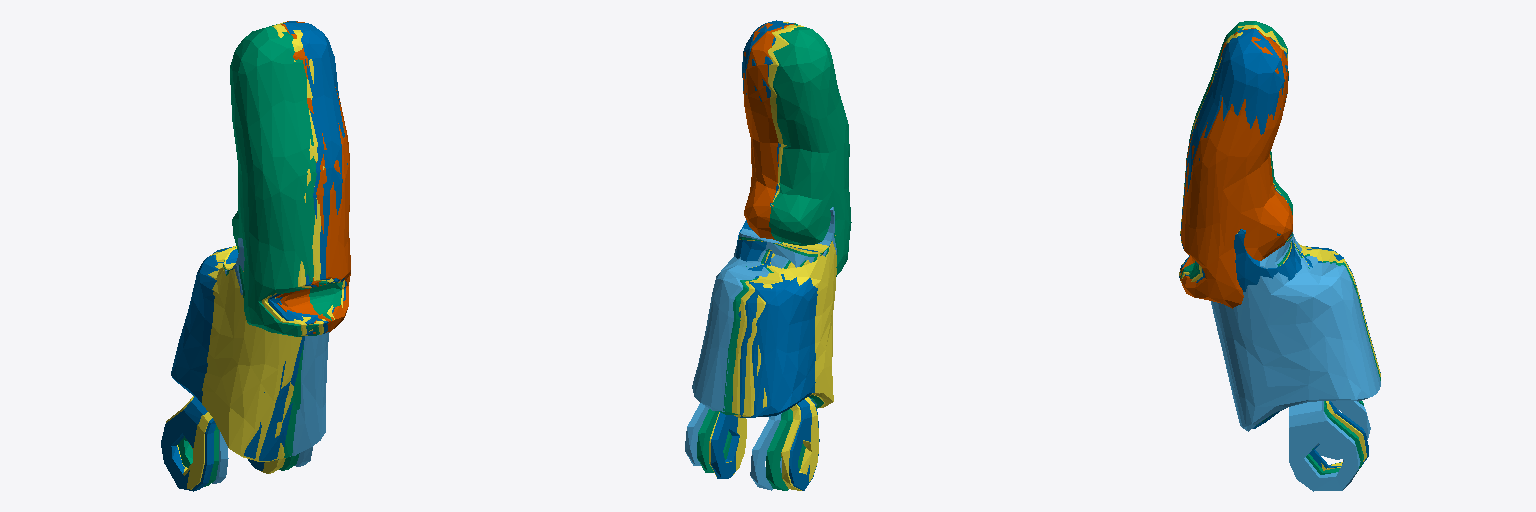
URDF robot description (ability_hand):
<?xml version="1.0" encoding="UTF-8"?>
<!--
	NOTES:
	Units:
		Distance: m
		Angles: rad (only option)
		Mass: kg
		Inertia: kg*m^2
		
	Notes on intertia:
		-The inertias are calculated for uniform density using meshes with weights.
	
	Notes on finger q2:
		-The hand is a 4 bar linkage mechanism forming an 'X'. 4 bar linkages are not supported in the 
		urdf format. The motion of the second finger joint is fully defined by the motion of the first 
		finger joint. The calculation to find the index finger second joint angle given the first is provided
		in a matlab script elsewhere in this repository.
-->
<robot name="ability_hand">
   <link name="base">
      <visual name="wrist_mesh">
         <origin rpy="0 0 0" xyz="0 0 0" />
         <geometry>
            <mesh filename="models/wristmesh.STL" />
         </geometry>
      </visual>
      <inertial>
         <mass value="0.37511000" />
         <inertia ixx="3.76723021e-04" ixy="-2.33895460e-06" ixz="6.04325119e-06" iyy="4.67706269e-04" iyz="5.04572726e-05" izz="1.77650714e-04" />
         <origin xyz="6.54520000e-04 -5.98838000e-03 5.07726500e-02" rpy="0 0 0" />
      </inertial>
            <visual name="palm_mesh">
         <origin rpy="3.14148426 -0.08848813 -3.14036612" xyz="-24.0476665e-3 3.78124745e-3 32.32964923e-3" />
         <geometry>
            <mesh filename="models/FB_palm_ref_MIR.STL" />
         </geometry>
      </visual>
      <collision name="palm_mesh_coll">
         <origin rpy="3.14148426 -0.08848813 -3.14036612" xyz="-24.0476665e-3 3.78124745e-3 32.32964923e-3" />
         <geometry>
            <mesh filename="models/palm_hull_mir.STL" />
         </geometry>
      </collision>
   </link>
   <link name="index_L1">
      <inertial>
         <mass value="0.00636000" />
         <inertia ixx="2.85169621e-07" ixy="1.21454801e-08" ixz="2.02098452e-09" iyy="9.77683041e-07" iyz="-2.87547802e-10" izz="1.05411544e-06" />
         <origin xyz="1.77549969e-02 -2.13867669e-04 -2.02851433e-05" rpy="0 0 0" />
      </inertial>
      <visual name="index_mesh_1">
         <origin rpy="0 0 0" xyz="0 0 0" />
         <geometry>
            <mesh filename="models/idx-F1.STL" />
         </geometry>
      </visual>
      <collision name="index_mesh_coll_1">
         <origin rpy="0 0 0.0844739" xyz="0.0384727 0.0032577 0" />
         <geometry>
            <mesh filename="models/idx-F1-hull.STL" />
         </geometry>
      </collision>
   </link>
   <link name="index_L2">
      <inertial>
         <mass value="0.00600000" />
         <inertia ixx="4.06340451e-07" ixy="3.99862338e-07" ixz="-1.91966414e-09" iyy="9.13745257e-07" iyz="8.96846813e-10" izz="1.13382499e-06" />
         <origin xyz="1.52723400e-02 -1.00039197e-02 -3.11063902e-05" rpy="0 0 0" />
      </inertial>
      <visual name="index_mesh_2">
         <origin rpy="0 0 0" xyz="0 0 0" />
         <geometry>
            <mesh filename="models/idx-F2.STL" />
         </geometry>
      </visual>
      <collision name="index_mesh_coll_2">
         <origin rpy="0 0 0" xyz="0.0091241 0 0" />
         <geometry>
            <mesh filename="models/idx-F2-hull.STL" />
         </geometry>
      </collision>
   </link>
   <joint name="index_q1" type="revolute">
      <parent link="base" />
      <child link="index_L1" />
      <origin xyz="-2.8e-2 -9e-3 9.6e-2" rpy=" 1.672 -1.317 -1.790 " />
      <axis xyz="0 0 1" />
      <limit lower="0" upper="2.0943951" effort="6.0" velocity="8.0677777442" />
      <dynamics damping="0.001" friction="0.001" />
   </joint>
   <joint name="index_q2" type="revolute">
      <parent link="index_L1" />
      <child link="index_L2" />
      <origin xyz="38.472723e-3 3.257695e-3 0.000000e-3" rpy="0 0 0.084474" />
      <axis xyz="0 0 1" />
      <limit lower="0.0" upper="2.6586" effort="6.0" velocity="8.0677777442" />
      <!-- angles in rad, efforts in N-m, velocity in rad/s -->
      <dynamics damping="0.001" friction="0.001" />
      <!-- Friction coefficient is not from quantitative measurement -->
      <mimic joint="index_q1" multiplier="1.05851325" offset="0.72349796" />
   </joint>
   <link name="index_anchor" />
   <joint name="idx_anchor" type="fixed">
      <parent link="index_L2" />
      <child link="index_anchor" />
      <origin rpy="0 0 0" xyz="31.5541e-3  -10.44e-3 0.14e-3" />
   </joint>
   <link name="fsr0" />
   <joint name="fsr0" type="fixed">
      <parent link="index_L2" />
      <child link="fsr0" />
      <origin rpy="3.14 0 -0.1848" xyz="0.02556 -0.01391 -0.00435" />
   </joint>
   <link name="fsr1" />
   <joint name="fsr1" type="fixed">
      <parent link="index_L2" />
      <child link="fsr1" />
      <origin rpy="-1.5708 0.0 -0.2316" xyz="0.02517 -0.01110 -0.00000" />
   </joint>
   <link name="fsr2" />
   <joint name="fsr2" type="fixed">
      <parent link="index_L2" />
      <child link="fsr2" />
      <origin rpy="0.0 0.0 -0.1848036056311012" xyz="0.02556 -0.01391 0.00435" />
   </joint>
   <link name="fsr3" />
   <joint name="fsr3" type="fixed">
      <parent link="index_L2" />
      <child link="fsr3" />
      <origin rpy="3.14159 0.00000 -0.57092" xyz="0.01310 -0.00943 -0.00435" />
   </joint>
   <link name="fsr4" />
   <joint name="fsr4" type="fixed">
      <parent link="index_L2" />
      <child link="fsr4" />
      <origin rpy="0.00000 0.00000 -0.57199" xyz="0.01310 -0.00943 0.00435" />
   </joint>
   <link name="fsr5" />
   <joint name="fsr5" type="fixed">
      <parent link="index_L2" />
      <child link="fsr5" />
      <origin rpy="-2.66907 -1.57080 0.00000" xyz="0.03142 -0.01438 0.00000" />
   </joint>
   <link name="middle_L1">
      <inertial>
         <mass value="0.00636000" />
         <inertia ixx="2.85169621e-07" ixy="1.21454801e-08" ixz="2.02098452e-09" iyy="9.77683041e-07" iyz="-2.87547802e-10" izz="1.05411544e-06" />
         <origin xyz="1.77549969e-02 -2.13867669e-04 -2.02851433e-05" rpy="0 0 0" />
      </inertial>
      <visual name="middle_mesh_1">
         <origin rpy="0 0 0" xyz="0 0 0" />
         <geometry>
            <mesh filename="models/idx-F1.STL" />
         </geometry>
      </visual>
      <collision name="middle_mesh_coll_1">
         <origin rpy="0 0 0.0844739" xyz="0.0384727 0.0032577 0" />
         <geometry>
            <mesh filename="models/idx-F1-hull.STL" />
         </geometry>
      </collision>
   </link>
   <link name="middle_L2">
      <inertial>
         <mass value="0.00600000" />
         <inertia ixx="4.06340451e-07" ixy="3.99862338e-07" ixz="-1.91966414e-09" iyy="9.13745257e-07" iyz="8.96846813e-10" izz="1.13382499e-06" />
         <origin xyz="1.52723400e-02 -1.00039197e-02 -3.11063902e-05" rpy="0 0 0" />
      </inertial>
      <visual name="middle_mesh_2">
         <origin rpy="0 0 0" xyz="0 0 0" />
         <geometry>
            <mesh filename="models/idx-F2.STL" />
         </geometry>
      </visual>
      <collision name="middle_mesh_coll_2">
         <origin rpy="0 0 0" xyz="0.0091241 0 0" />
         <geometry>
            <mesh filename="models/idx-F2-hull.STL" />
         </geometry>
      </collision>
   </link>
   <joint name="middle_q1" type="revolute">
      <parent link="base" />
      <child link="middle_L1" />
      <origin xyz=" -0.008 -0.012 0.099 " rpy=" 1.513 -1.322 -1.558 " />
      <limit lower="0" upper="2.0943951" effort="6.0" velocity="8.0677777442" />
      <dynamics damping="0.001" friction="0.001" />
      <axis xyz="0 0 1" />
   </joint>
   <joint name="middle_q2" type="revolute">
      <parent link="middle_L1" />
      <child link="middle_L2" />
      <origin xyz="38.472723e-3 3.257695e-3 0.000000" rpy="0 0 0.084474" />
      <axis xyz="0 0 1" />
      <limit lower="0.0" upper="2.6586" effort="6.0" velocity="8.0677777442" />
      <!-- angles in rad, efforts in N-m, velocity in rad/s -->
      <dynamics damping="0.001" friction="0.001" />
      <!-- Friction coefficient is not from quantitative measurement -->
      <mimic joint="middle_q1" multiplier="1.05851325" offset="0.72349796" />
   </joint>
   <link name="middle_anchor" />
   <joint name="mid_anchor" type="fixed">
      <parent link="middle_L2" />
      <child link="middle_anchor" />
      <origin rpy="0 0 0" xyz="31.5541e-3  -10.44e-3 0.14e-3" />
   </joint>
   <link name="fsr6" />
   <joint name="fsr6" type="fixed">
      <parent link="middle_L2" />
      <child link="fsr6" />
      <origin rpy="3.14 0 -0.1848" xyz="0.02556 -0.01391 -0.00435" />
   </joint>
   <link name="fsr7" />
   <joint name="fsr7" type="fixed">
      <parent link="middle_L2" />
      <child link="fsr7" />
      <origin rpy="-1.5708 0.0 -0.2316" xyz="0.02517 -0.01110 -0.00000" />
   </joint>
   <link name="fsr8" />
   <joint name="fsr8" type="fixed">
      <parent link="middle_L2" />
      <child link="fsr8" />
      <origin rpy="0.0 0.0 -0.1848036056311012" xyz="0.02556 -0.01391 0.00435" />
   </joint>
   <link name="fsr9" />
   <joint name="fsr9" type="fixed">
      <parent link="middle_L2" />
      <child link="fsr9" />
      <origin rpy="3.14159 0.00000 -0.57092" xyz="0.01310 -0.00943 -0.00435" />
   </joint>
   <link name="fsr10" />
   <joint name="fsr10" type="fixed">
      <parent link="middle_L2" />
      <child link="fsr10" />
      <origin rpy="0.00000 0.00000 -0.57199" xyz="0.01310 -0.00943 0.00435" />
   </joint>
   <link name="fsr11" />
   <joint name="fsr11" type="fixed">
      <parent link="middle_L2" />
      <child link="fsr11" />
      <origin rpy="-2.66907 -1.57080 0.00000" xyz="0.03142 -0.01438 0.00000" />
   </joint>
   <link name="ring_L1">
      <inertial>
         <mass value="0.00636000" />
         <inertia ixx="2.85169621e-07" ixy="1.21454801e-08" ixz="2.02098452e-09" iyy="9.77683041e-07" iyz="-2.87547802e-10" izz="1.05411544e-06" />
         <origin xyz="1.77549969e-02 -2.13867669e-04 -2.02851433e-05" rpy="0 0 0" />
      </inertial>
      <visual name="ring_mesh_1">
         <origin rpy="0 0 0" xyz="0 0 0" />
         <geometry>
            <mesh filename="models/idx-F1.STL" />
         </geometry>
      </visual>
      <collision name="ring_mesh_coll_1">
         <origin rpy="0 0 0.0844739" xyz="0.0384727 0.0032577 0" />
         <geometry>
            <mesh filename="models/idx-F1-hull.STL" />
         </geometry>
      </collision>
   </link>
   <link name="ring_L2">
      <inertial>
         <mass value="0.00600000" />
         <inertia ixx="4.06340451e-07" ixy="3.99862338e-07" ixz="-1.91966414e-09" iyy="9.13745257e-07" iyz="8.96846813e-10" izz="1.13382499e-06" />
         <origin xyz="1.52723400e-02 -1.00039197e-02 -3.11063902e-05" rpy="0 0 0" />
      </inertial>
      <visual name="ring_mesh_2">
         <origin rpy="0 0 0" xyz="0 0 0" />
         <geometry>
            <mesh filename="models/idx-F2.STL" />
         </geometry>
      </visual>
      <collision name="ring_mesh_coll_2">
         <origin rpy="0 0 0" xyz="0.0091241 0 0" />
         <geometry>
            <mesh filename="models/idx-F2-hull.STL" />
         </geometry>
      </collision>
   </link>
   <joint name="ring_q1" type="revolute">
      <parent link="base" />
      <child link="ring_L1" />
      <origin xyz=" 0.012 -0.010 0.097 " rpy=" 1.361 -1.315 -1.330 " />
      <limit lower="0" upper="2.0943951" effort="6.0" velocity="8.0677777442" />
      <dynamics damping="0.001" friction="0.001" />
      <axis xyz="0 0 1" />
   </joint>
   <joint name="ring_q2" type="revolute">
      <parent link="ring_L1" />
      <child link="ring_L2" />
      <origin xyz="38.472723e-3 3.257695e-3 0.000000" rpy="0 0 0.084474" />
      <axis xyz="0 0 1" />
      <limit lower="0.0" upper="2.6586" effort="6.0" velocity="8.0677777442" />
      <!-- angles in rad, efforts in N-m, velocity in rad/s -->
      <dynamics damping="0.001" friction="0.001" />
      <!-- Friction coefficient is not from quantitative measurement -->
      <mimic joint="ring_q1" multiplier="1.05851325" offset="0.72349796" />
   </joint>
   <link name="ring_anchor" />
   <joint name="rng_anchor" type="fixed">
      <parent link="ring_L2" />
      <child link="ring_anchor" />
      <origin rpy="0 0 0" xyz="31.5541e-3  -10.44e-3 0.14e-3" />
   </joint>
   <link name="fsr12" />
   <joint name="fsr12" type="fixed">
      <parent link="ring_L2" />
      <child link="fsr12" />
      <origin rpy="3.14 0 -0.1848" xyz="0.02556 -0.01391 -0.00435" />
   </joint>
   <link name="fsr13" />
   <joint name="fsr13" type="fixed">
      <parent link="ring_L2" />
      <child link="fsr13" />
      <origin rpy="-1.5708 0.0 -0.2316" xyz="0.02517 -0.01110 -0.00000" />
   </joint>
   <link name="fsr14" />
   <joint name="fsr14" type="fixed">
      <parent link="ring_L2" />
      <child link="fsr14" />
      <origin rpy="0.0 0.0 -0.1848036056311012" xyz="0.02556 -0.01391 0.00435" />
   </joint>
   <link name="fsr15" />
   <joint name="fsr15" type="fixed">
      <parent link="ring_L2" />
      <child link="fsr15" />
      <origin rpy="3.14159 0.00000 -0.57092" xyz="0.01310 -0.00943 -0.00435" />
   </joint>
   <link name="fsr16" />
   <joint name="fsr16" type="fixed">
      <parent link="ring_L2" />
      <child link="fsr16" />
      <origin rpy="0.00000 0.00000 -0.57199" xyz="0.01310 -0.00943 0.00435" />
   </joint>
   <link name="fsr17" />
   <joint name="fsr17" type="fixed">
      <parent link="ring_L2" />
      <child link="fsr17" />
      <origin rpy="-2.66907 -1.57080 0.00000" xyz="0.03142 -0.01438 0.00000" />
   </joint>
   <link name="pinky_L1">
      <inertial>
         <mass value="0.00636000" />
         <inertia ixx="2.85169621e-07" ixy="1.21454801e-08" ixz="2.02098452e-09" iyy="9.77683041e-07" iyz="-2.87547802e-10" izz="1.05411544e-06" />
         <origin xyz="1.77549969e-02 -2.13867669e-04 -2.02851433e-05" rpy="0 0 0" />
      </inertial>
      <visual name="pinky_mesh_1">
         <origin rpy="0 0 0" xyz="0 0 0" />
         <geometry>
            <mesh filename="models/idx-F1.STL" />
         </geometry>
      </visual>
      <collision name="pinky_mesh_coll_1">
         <origin rpy="0 0 0.0844739" xyz="0.0384727 0.0032577 0" />
         <geometry>
            <mesh filename="models/idx-F1-hull.STL" />
         </geometry>
      </collision>
   </link>
   <link name="pinky_L2">
      <inertial>
         <mass value="0.00600000" />
         <inertia ixx="3.07970159e-07" ixy="2.80921010e-07" ixz="-2.72117073e-09" iyy="7.40775495e-07" iyz="1.08144438e-09" izz="8.93728844e-07" />
         <origin xyz="1.33249215e-02 -8.15894775e-03 -4.07689501e-05" rpy="0 0 0" />
      </inertial>
      <visual name="pinky_mesh_2">
         <origin rpy="0 0 0" xyz="0 0 0" />
         <geometry>
            <mesh filename="models/idx-F2.STL" />
         </geometry>
      </visual>
      <collision name="pinky_mesh_coll_2">
         <origin rpy="0 0 0" xyz="0.0091241 0 0" />
         <geometry>
            <mesh filename="models/idx-F2-hull.STL" />
         </geometry>
      </collision>
   </link>
   <joint name="pinky_q1" type="revolute">
      <parent link="base" />
      <child link="pinky_L1" />
      <origin xyz=" 0.031 -0.007 0.091 " rpy=" 1.410 -1.315 -1.313 " />
      <limit lower="0" upper="2.0943951" effort="6.0" velocity="8.0677777442" />
      <dynamics damping="0.001" friction="0.001" />
      <axis xyz="0 0 1" />
   </joint>
   <joint name="pinky_q2" type="revolute">
      <parent link="pinky_L1" />
      <child link="pinky_L2" />
      <origin xyz="38.472723e-3 3.257695e-3 0.000000" rpy="0 0 0.084474" />
      <limit lower="0.0" upper="2.6586" effort="6.0" velocity="8.0677777442" />
      <!-- angles in rad, efforts in N-m, velocity in rad/s -->
      <dynamics damping="0.001" friction="0.001" />
      <!-- Friction coefficient is not from quantitative measurement -->
      <axis xyz="0 0 1" />
      <mimic joint="pinky_q1" multiplier="1.05851325" offset="0.72349796" />
   </joint>
   <link name="pinky_anchor" />
   <joint name="pnky_anchor" type="fixed">
      <parent link="pinky_L2" />
      <child link="pinky_anchor" />
      <origin rpy="0 0 0" xyz="31.5541e-3  -10.44e-3 0.14e-3" />
   </joint>
   <link name="fsr18" />
   <joint name="fsr18" type="fixed">
      <parent link="pinky_L2" />
      <child link="fsr18" />
      <origin rpy="3.14 0 -0.1848" xyz="0.02556 -0.01391 -0.00435" />
   </joint>
   <link name="fsr19" />
   <joint name="fsr19" type="fixed">
      <parent link="pinky_L2" />
      <child link="fsr19" />
      <origin rpy="-1.5708 0.0 -0.2316" xyz="0.02517 -0.01110 -0.00000" />
   </joint>
   <link name="fsr20" />
   <joint name="fsr20" type="fixed">
      <parent link="pinky_L2" />
      <child link="fsr20" />
      <origin rpy="0.0 0.0 -0.1848036056311012" xyz="0.02556 -0.01391 0.00435" />
   </joint>
   <link name="fsr21" />
   <joint name="fsr21" type="fixed">
      <parent link="pinky_L2" />
      <child link="fsr21" />
      <origin rpy="3.14159 0.00000 -0.57092" xyz="0.01310 -0.00943 -0.00435" />
   </joint>
   <link name="fsr22" />
   <joint name="fsr22" type="fixed">
      <parent link="pinky_L2" />
      <child link="fsr22" />
      <origin rpy="0.00000 0.00000 -0.57199" xyz="0.01310 -0.00943 0.00435" />
   </joint>
   <link name="fsr23" />
   <joint name="fsr23" type="fixed">
      <parent link="pinky_L2" />
      <child link="fsr23" />
      <origin rpy="-2.66907 -1.57080 0.00000" xyz="0.03142 -0.01438 0.00000" />
   </joint>
   <link name="thumb_L1">
      <inertial>
         <mass value="0.00200000" />
         <inertia ixx="1.19399127e-07" ixy="1.99799715e-08" ixz="-6.88490629e-08" iyy="2.50792788e-07" iyz="8.36717975e-09" izz="2.02280286e-07" />
         <origin xyz="1.42940200e-02 -1.88850000e-03 4.96979000e-03" rpy="0 0 0" />
      </inertial>
      <visual name="thumb_mesh_1">
         <origin rpy="0 0 0" xyz="0 0 0" />
         <geometry>
            <mesh filename="models/thumb-F1-MIR.STL" />
         </geometry>
      </visual>
      <collision name="thumb_coll_mesh_1">
         <origin rpy="1.832596 0 0" xyz="0.0278284 0 0.0147507" />
         <geometry>
            <mesh filename="models/thumb-F1-MIR-hull.STL" />
         </geometry>
      </collision>
   </link>
   <link name="thumb_L2">
      <inertial>
         <mass value="0.06000000" />
         <inertia ixx="8.10858569e-06" ixy="-7.50865328e-06" ixz="-6.23786727e-08" iyy="2.16060955e-05" iyz="-1.00037755e-07" izz="2.58546348e-05" />
         <origin xyz="2.77624500e-02 5.62171000e-03 3.76111000e-03" rpy="0 0 0" />
      </inertial>
      <visual name="thumb_mesh_2">
         <origin rpy="0 0 0" xyz="0 0 0" />
         <geometry>
            <mesh filename="models/thumb-F2-right.STL" />
         </geometry>
      </visual>
      <collision name="thumb_hull_mesh_2">
         <origin rpy="-3.141592 0 0.3438291" xyz="0.0651867 0.0233402 0.00393483" />
         <geometry>
            <mesh filename="models/thumb-F2-hull.STL" />
         </geometry>
      </collision>
   </link>
   <joint name="thumb_q1" type="revolute">
      <parent link="base" />
      <child link="thumb_L1" />
      <origin xyz="-24.0476665e-3 3.78124745e-3 32.32964923e-3" rpy="-0.01675973 -0.08689062 -2.95079797" />
      <axis xyz="0 0 1" />
      <limit lower="-2.0943951" upper="0" effort="1.2" velocity="40.338888721" />
      <!-- angles in rad, efforts in N-m, velocity in rad/s -->
      <dynamics damping="0.001" friction="0.001" />
      <!-- Friction coefficient is not from quantitative measurement -->
   </joint>
   <joint name="thumb_q2" type="revolute">
      <parent link="thumb_L1" />
      <child link="thumb_L2" />
      <origin xyz=" 27.8283501e-3 1.7436510745838653e-19 14.7507e-3 " rpy=" 1.832595714594045 -0.0 5.366520605522463e-18 " />
      <axis xyz="0 0 1" />
      <limit lower="0" upper="2.0943951" effort="6.0" velocity="8.0677777442" />
      <!-- angles in rad, efforts in N-m, velocity in rad/s -->
      <dynamics damping="0.001" friction="0.001" />
      <!-- Friction coefficient is not from quantitative measurement -->
   </joint>
   <link name="thumb_anchor" />
   <joint name="thmb_anchor" type="fixed">
      <parent link="thumb_L2" />
      <child link="thumb_anchor" />
      <origin rpy="0 0 0" xyz="52.00122724e-3 28.00869333e-3 6.98483578e-3" />
   </joint>
   <link name="fsr24" />
   <joint name="fsr24" type="fixed">
      <parent link="thumb_L2" />
      <child link="fsr24" />
      <origin rpy="-2.29074 0.00001 0.41769" xyz="0.04747 0.01988 -0.001239" />
   </joint>
   <link name="fsr25" />
   <joint name="fsr25" type="fixed">
      <parent link="thumb_L2" />
      <child link="fsr25" />
      <origin rpy="-1.30899 0.00001 0.41769" xyz="0.04721 0.02124 0.006439" />
   </joint>
   <link name="fsr26" />
   <joint name="fsr26" type="fixed">
      <parent link="thumb_L2" />
      <child link="fsr26" />
      <origin rpy="-0.32726 0.00001 0.41769" xyz="0.04896 0.01654 0.01241" />
   </joint>
   <link name="fsr27" />
   <joint name="fsr27" type="fixed">
      <parent link="thumb_L2" />
      <child link="fsr27" />
      <origin rpy="-2.29074 0.00001 0.41769" xyz="0.03739 0.01536 -0.001289" />
   </joint>
   <link name="fsr28" />
   <joint name="fsr28" type="fixed">
      <parent link="thumb_L2" />
      <child link="fsr28" />
      <origin rpy="-0.32726 0.00001 0.41769" xyz="0.03888 0.01200 0.01244" />
   </joint>
   <link name="fsr29" />
   <joint name="fsr29" type="fixed">
      <parent link="thumb_L2" />
      <child link="fsr29" />
      <origin rrpy="-1.39339 0.19354 -0.40280" xyz="0.05591 0.02160 0.00558" />
   </joint>
</robot>

--- Facts derived from the render (not from the file) ---
Views: 3 orthographic renders of the robot side by side, from view 1: azimuth 30°, elevation 25°; view 2: azimuth 150°, elevation 25°; view 3: azimuth 270°, elevation 25°.
Model ability_hand with 46 links and 45 joints (10 revolute, 35 fixed), rooted at base, posed every joint at zero.
Visible links, largest first — view 1: index_L2, ring_L1, pinky_L1, ring_L2, pinky_L2, index_L1, middle_L2, middle_L1; view 2: index_L2, pinky_L1, ring_L1, index_L1, pinky_L2, middle_L1, middle_L2, ring_L2; view 3: index_L1, pinky_L2, ring_L2, pinky_L1, index_L2, ring_L1, middle_L1.
Link boxes in pixels (bbox=[...]): index_L2: bbox=[230, 24, 342, 336]; ring_L1: bbox=[166, 246, 301, 489]; pinky_L1: bbox=[161, 247, 304, 491]; ring_L2: bbox=[268, 21, 347, 334]; pinky_L2: bbox=[276, 21, 350, 333]; index_L1: bbox=[212, 238, 329, 483]; middle_L2: bbox=[262, 22, 344, 335]; middle_L1: bbox=[178, 247, 303, 486]; index_L2: bbox=[769, 23, 851, 276]; pinky_L1: bbox=[711, 220, 819, 490]; ring_L1: bbox=[709, 235, 836, 490]; index_L1: bbox=[685, 207, 836, 490]; pinky_L2: bbox=[743, 23, 794, 241]; middle_L1: bbox=[697, 233, 837, 490]; middle_L2: bbox=[768, 22, 803, 206]; ring_L2: bbox=[742, 20, 793, 206]; index_L1: bbox=[1211, 232, 1380, 491]; pinky_L2: bbox=[1180, 28, 1292, 308]; ring_L2: bbox=[1179, 29, 1288, 282]; pinky_L1: bbox=[1234, 229, 1380, 468]; index_L2: bbox=[1180, 21, 1292, 278]; ring_L1: bbox=[1237, 230, 1380, 470]; middle_L1: bbox=[1256, 233, 1380, 474].
Bounding box of the posed robot: 20.12 × 31.46 × 76.16 m (x, y, z).
Meshes: 6 distinct files referenced, 8 mesh visuals loaded (2 binary STL); not drawn: 4 (reference not matched to a file when rendering).